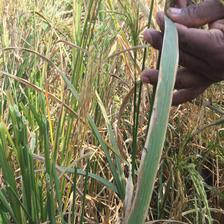2 BacterialBlight: (134, 56, 170, 198)
